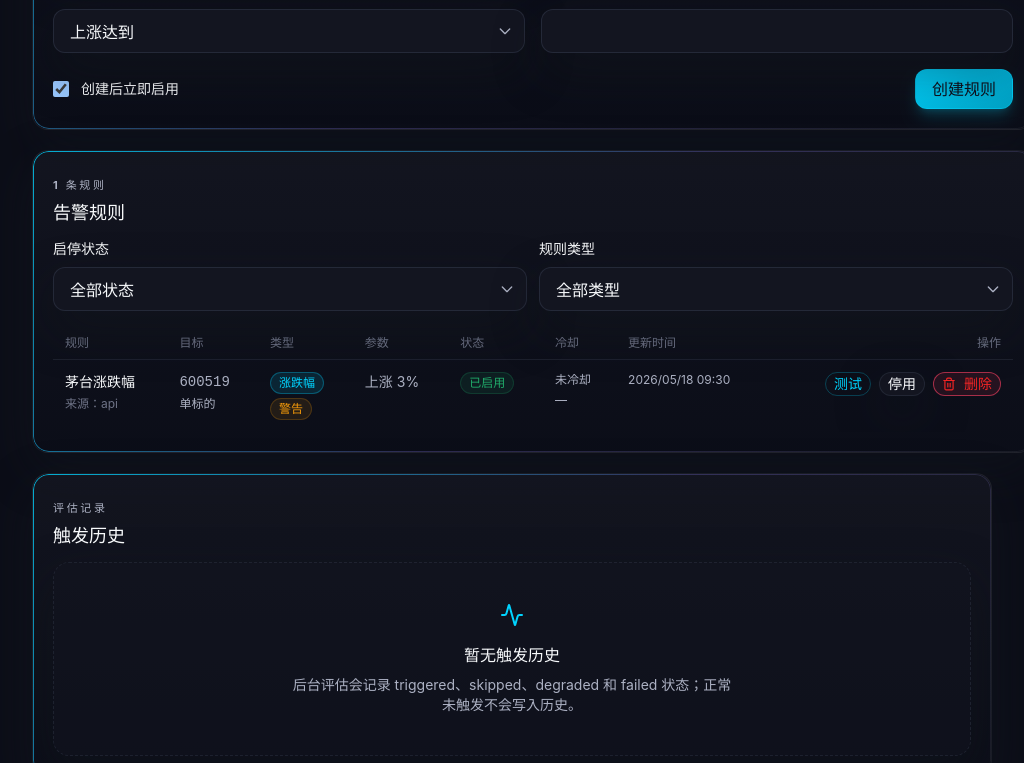
Test case: AlertsPage › runs a dry-run test and renders only declared response fields
(page scrolled)
Click the button "测试".
click(848, 384)  # box [825,372,871,396]
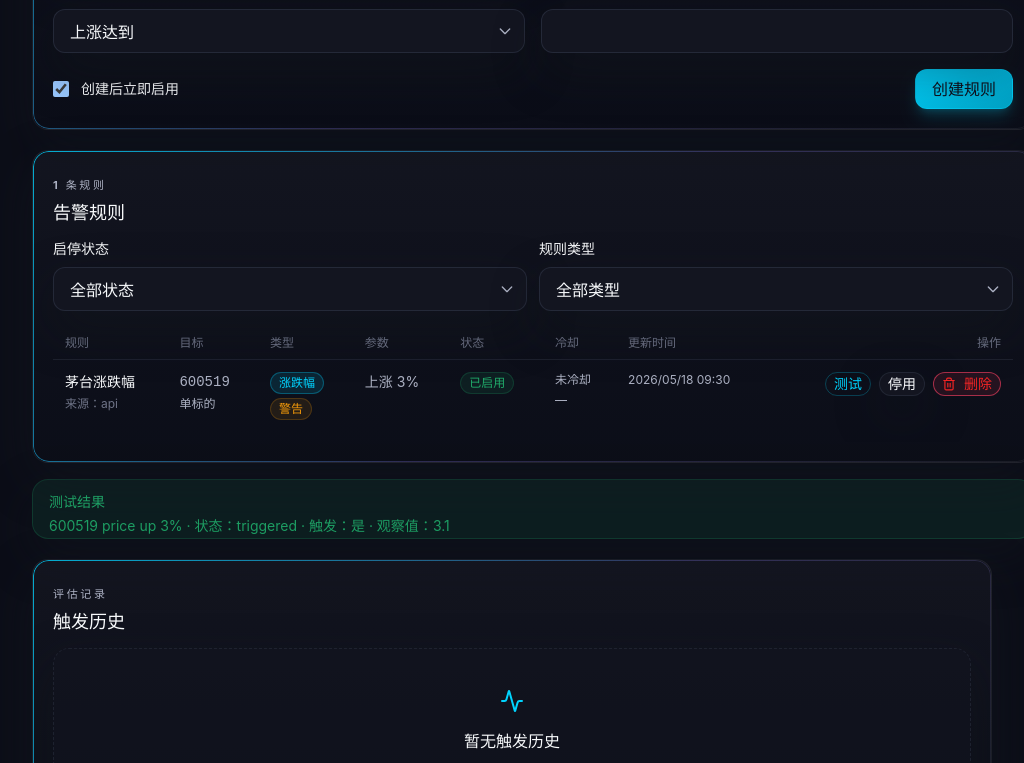
Check: the text "测试结果" is shown, box [49,493,105,510]
Check: the text "600519 price up 3% · 状态：triggered · 触发：是 · 观察值：3.1" is shown, box [49,516,450,536]
